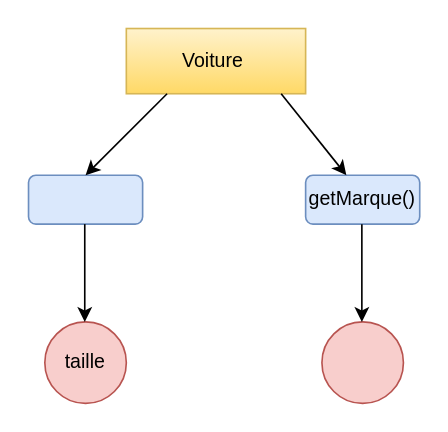
The diagram is 448 pixels wide and 432 high, and some of its shapes have lost their labels. Each missing label, with the centre of its shape:
getTaille(): the point at 85,199
marque: the point at 361,361
